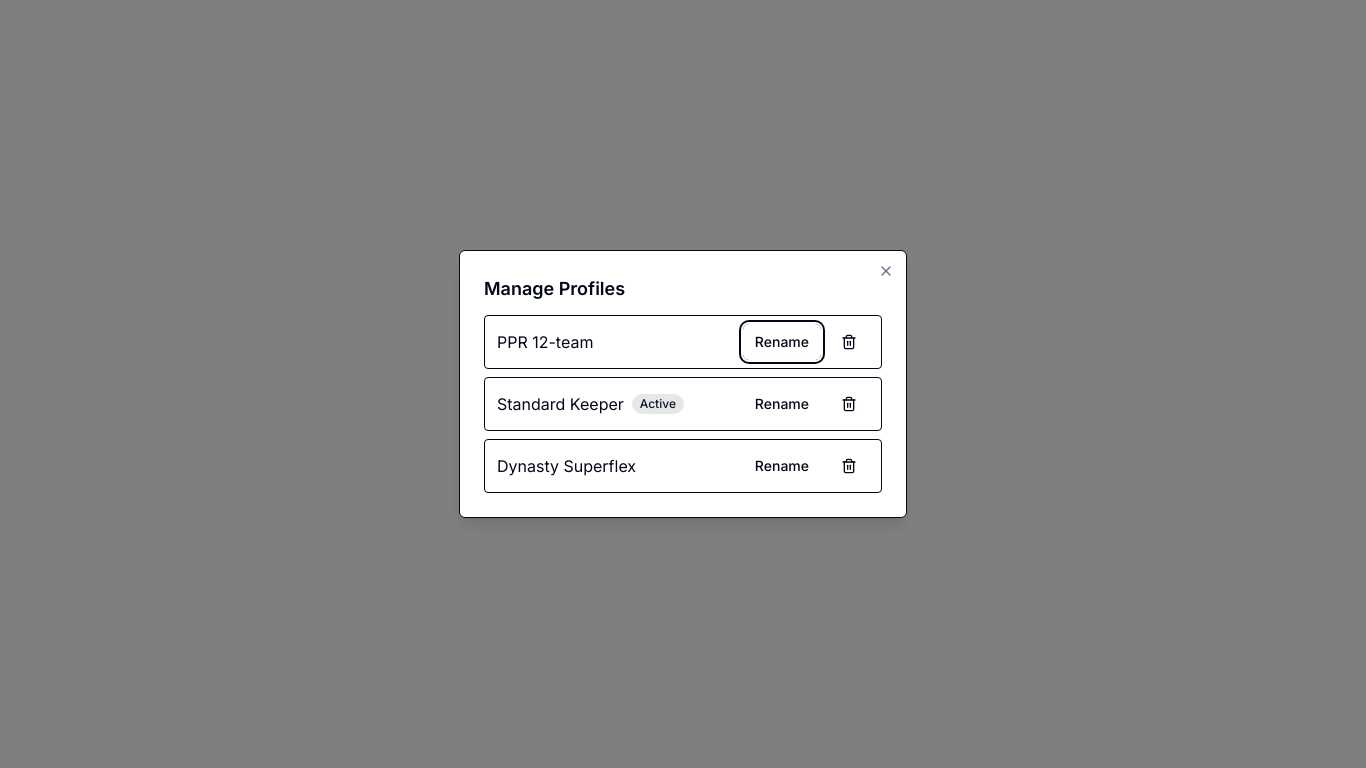
Test: ProfileManagerDialog › uses distinct confirm copy and a warning when deleting the active profile
Click the button named "delete Standard Keeper".
click(849, 404)  # box x1=829 y1=386 x2=869 y2=422
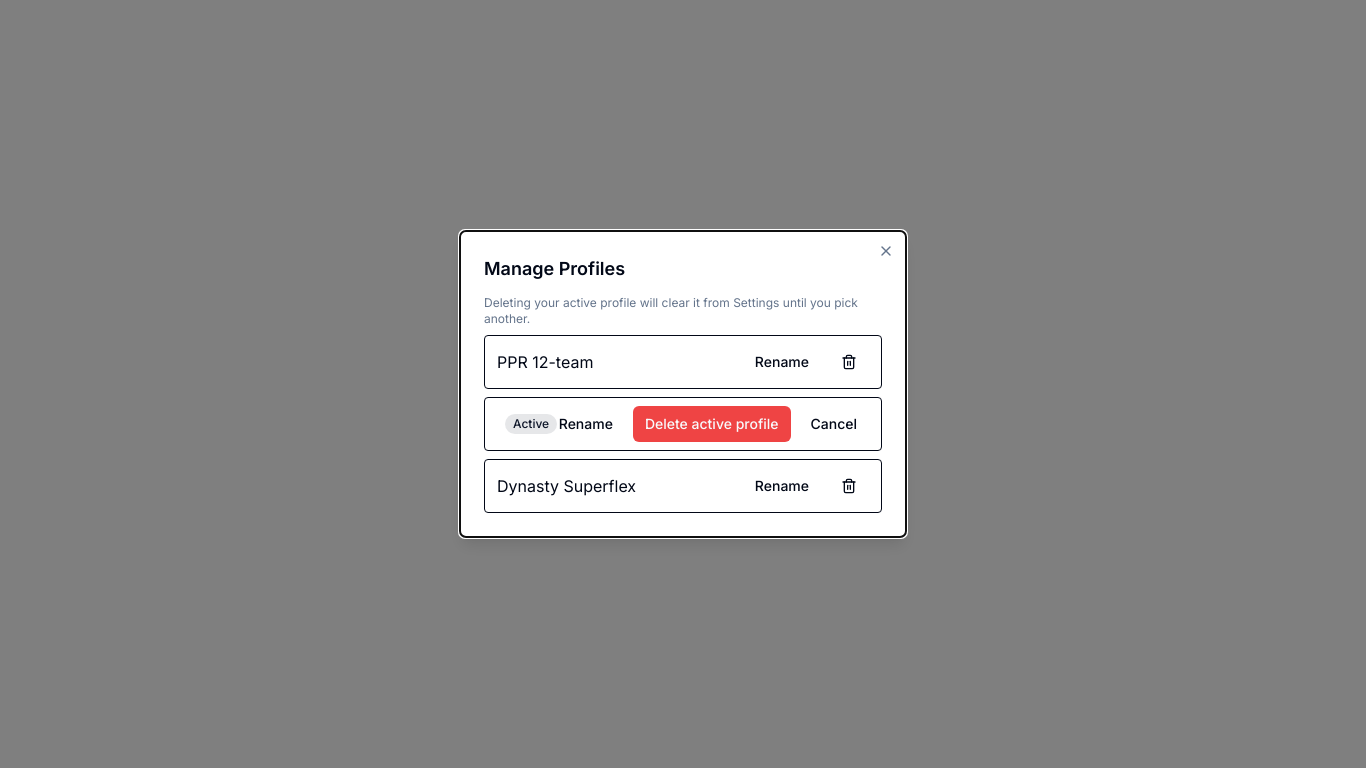
Result: the button "Delete active profile" is shown at x1=633 y1=406 x2=790 y2=442
Result: the text "clear it from Settings until you pick another" is shown at x1=484 y1=295 x2=858 y2=326
